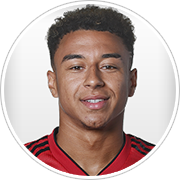smile: (80, 95, 111, 108)
